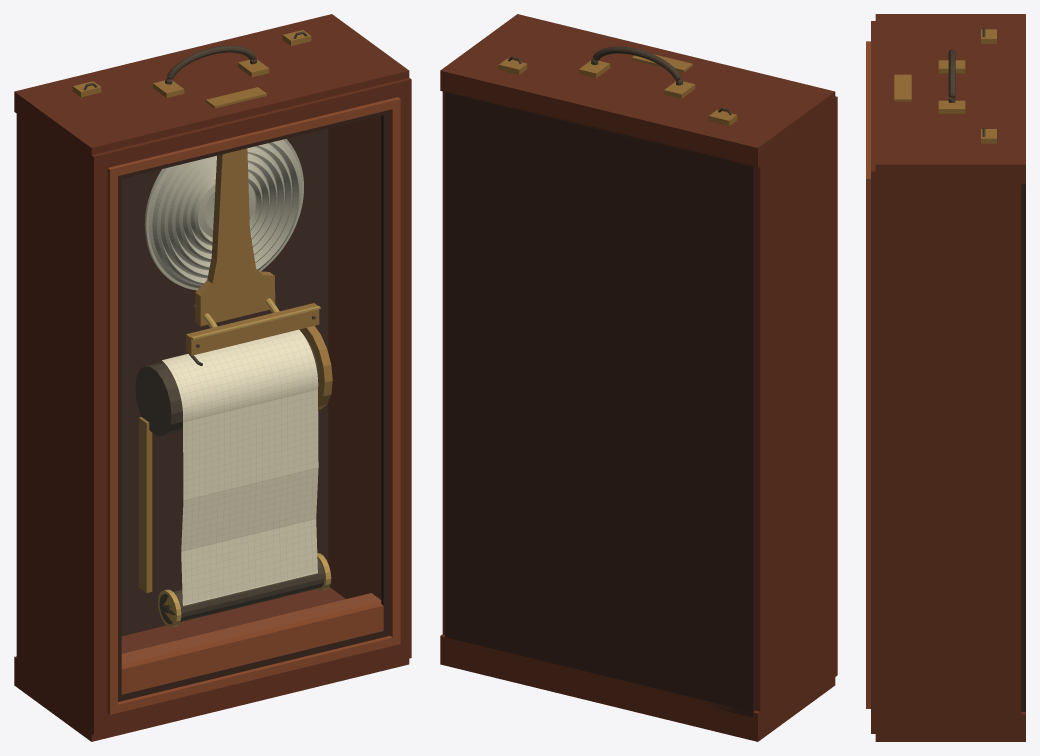
File: xuhui-zikawei-museum-french-vertical-barometer-raw.glb
The picture shows the model from 3 angles, left to right: view 1: azimuth 30°, elevation 25°; view 2: azimuth 150°, elevation 25°; view 3: azimuth 270°, elevation 25°; orthographic projection. The views are drawn at different scales.
Visible parts, largest first — view 1: 上海气象博物馆藏法国垂直气压计; view 2: 上海气象博物馆藏法国垂直气压计; view 3: 上海气象博物馆藏法国垂直气压计.
Part boxes in pixels (x1,y1,x2,y2): 上海气象博物馆藏法国垂直气压计: (14, 14, 411, 741); 上海气象博物馆藏法国垂直气压计: (440, 14, 837, 741); 上海气象博物馆藏法国垂直气压计: (866, 14, 1025, 741).
Bounding box in the file's own units: 0.56 × 1.05 × 0.251.
9 materials, 1 textured.
